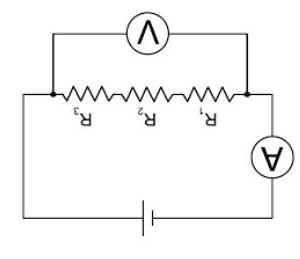Battery: (126, 175, 170, 243)
